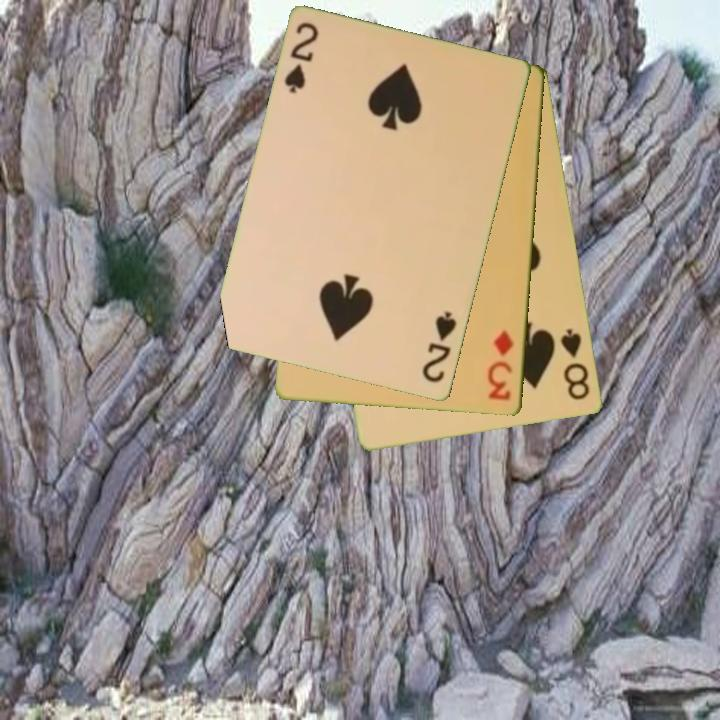2s: (419, 308, 460, 386), (281, 19, 322, 97)
3d: (485, 327, 517, 403)
8s: (557, 325, 593, 404)
